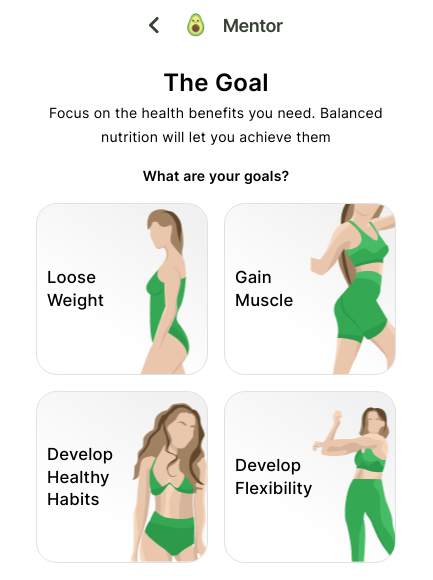
Scenario: Tests for Goal page › goes to next page by card clicking
Click the link with test id "goal-card" showing "Gain Muscle" at (310, 289), box [224, 203, 396, 375]
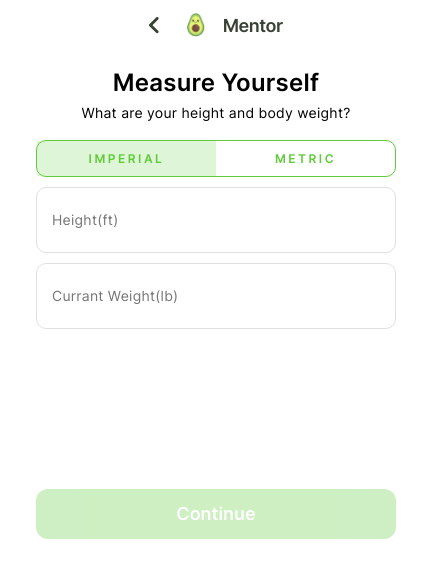
expect the element with test id "measurement" is shown: met
